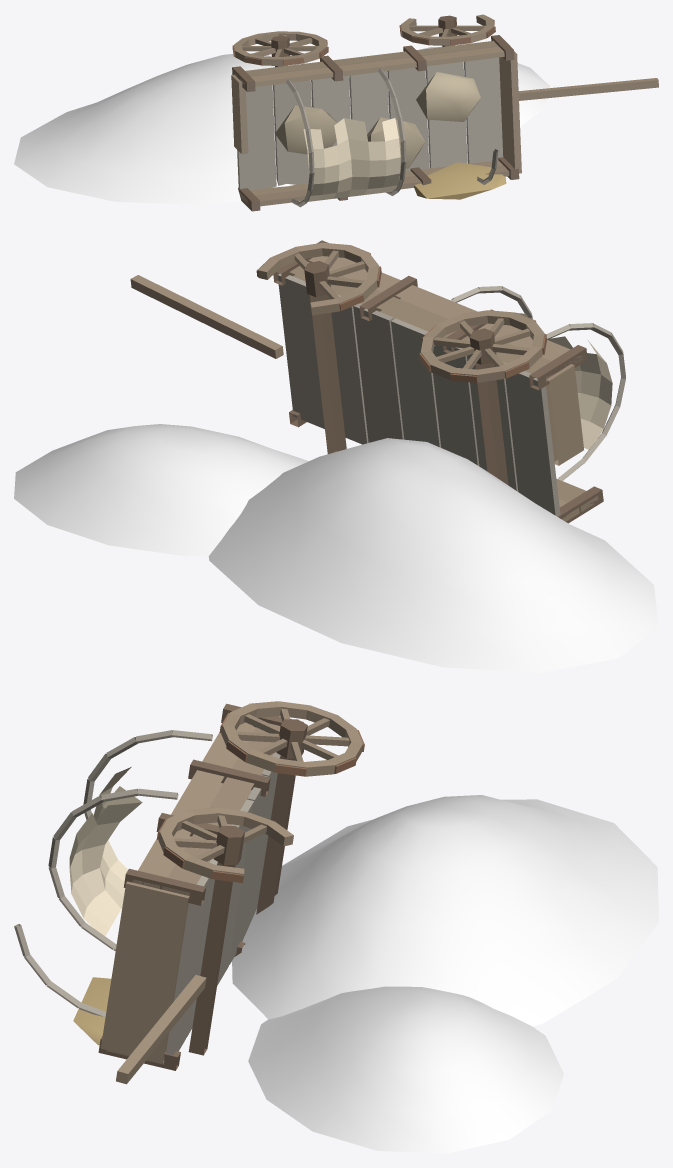
File: caravana_carro.glb
3 renders of one model, top to bottom at view 1: azimuth 30°, elevation 25°; view 2: azimuth 150°, elevation 25°; view 3: azimuth 270°, elevation 25°, orthographic. The views are drawn at different scales.
Parts seen in each view (by area): view 1: caravana_carro, caravana_carro_arena, caravana_carro_tela; view 2: caravana_carro_arena, caravana_carro, caravana_carro_tela; view 3: caravana_carro_arena, caravana_carro, caravana_carro_tela.
Boxes of the visible parts, <box> form: caravana_carro: <box>231,14,658,211</box>; caravana_carro_arena: <box>14,46,549,204</box>; caravana_carro_tela: <box>303,118,400,201</box>; caravana_carro_arena: <box>14,424,658,672</box>; caravana_carro: <box>130,240,625,523</box>; caravana_carro_tela: <box>518,313,612,449</box>; caravana_carro_arena: <box>232,795,658,1153</box>; caravana_carro: <box>14,701,364,1084</box>; caravana_carro_tela: <box>69,767,142,936</box>.
Size of the model in its own units: 6.73 by 1.91 by 4.97.
